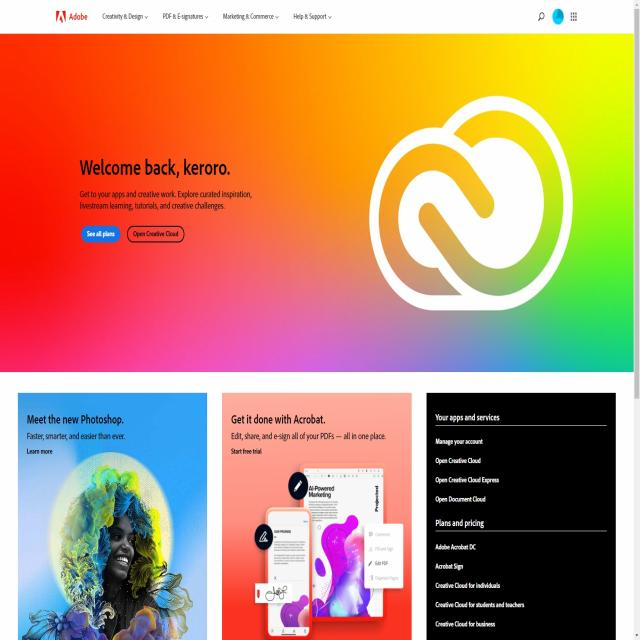menu-bar: (96, 2, 336, 29)
